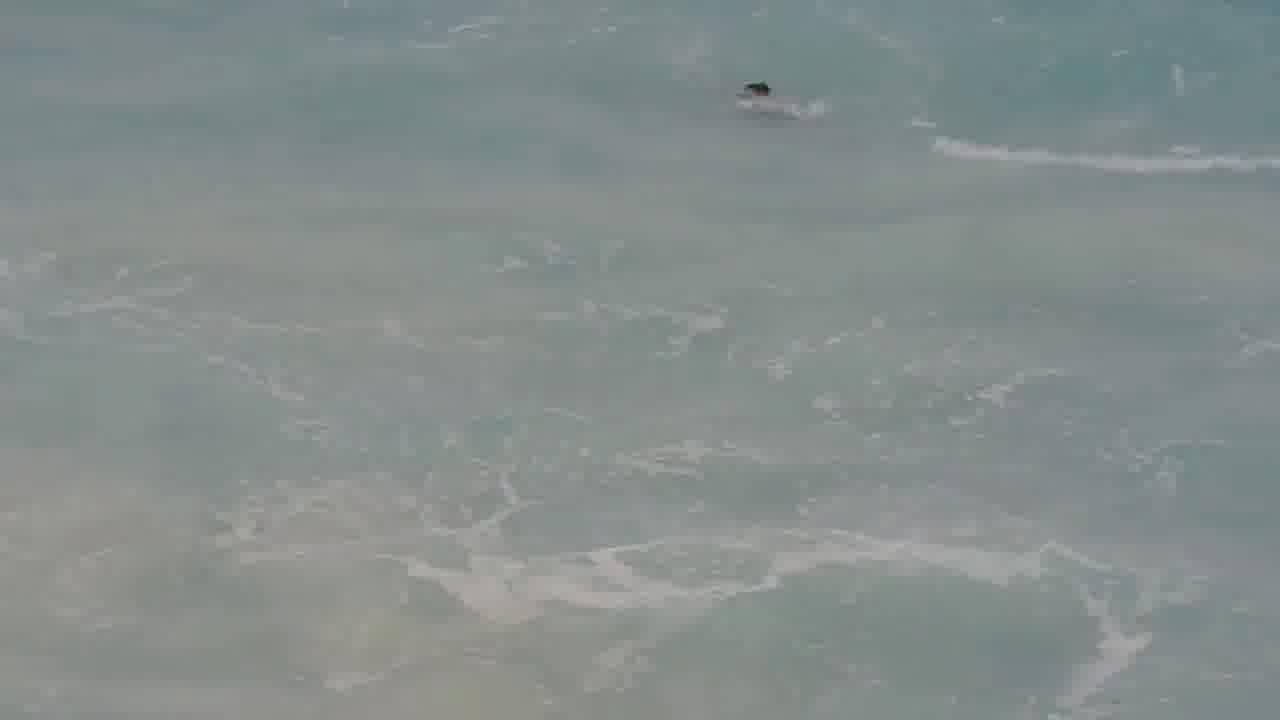swimmer: (731, 71, 776, 112)
